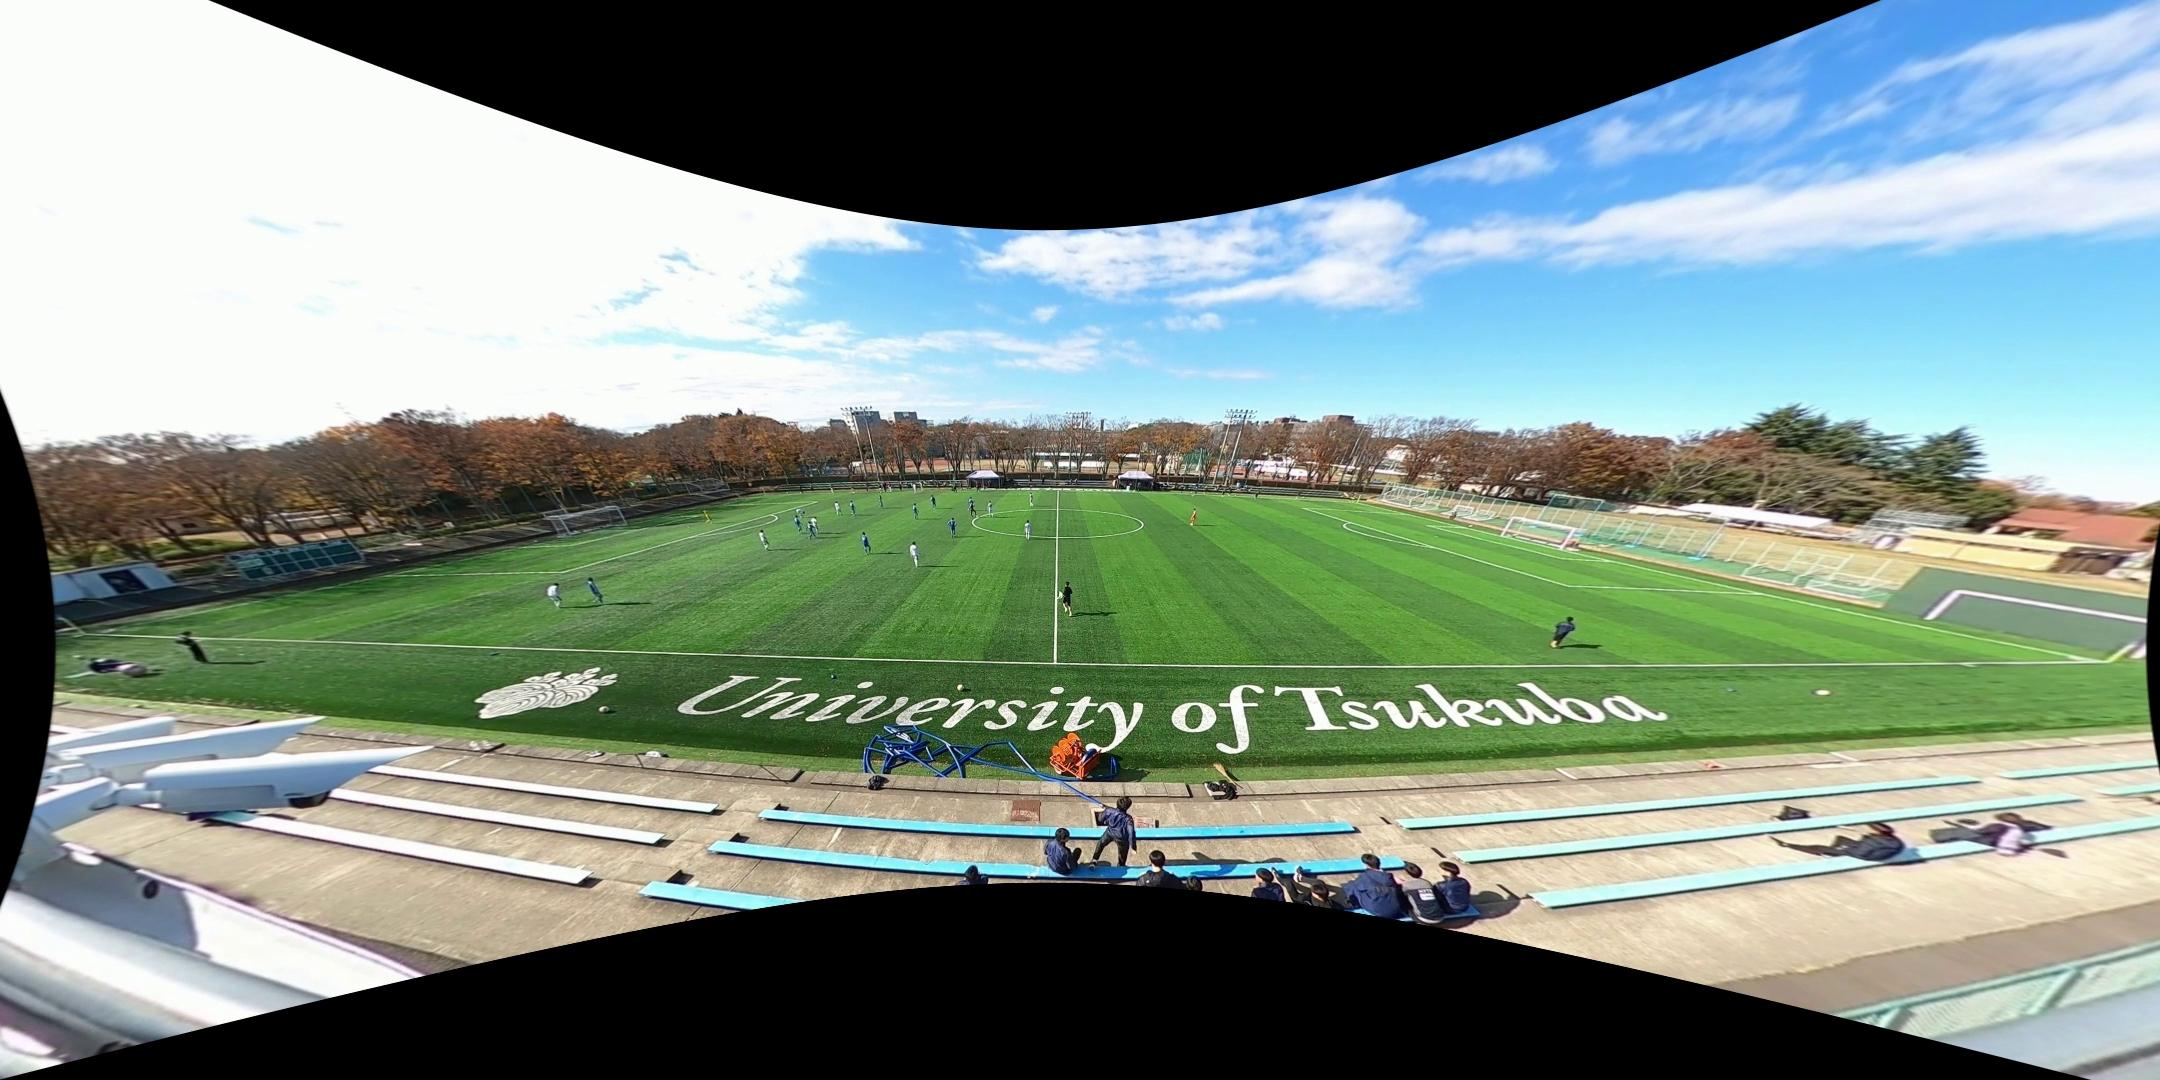person: (1550, 613, 1574, 654), (545, 582, 565, 611), (1058, 582, 1075, 615), (587, 576, 606, 605), (944, 517, 958, 539), (909, 541, 920, 568), (861, 530, 872, 556), (791, 513, 803, 535), (757, 530, 770, 550), (805, 521, 817, 541), (811, 516, 822, 536), (1024, 519, 1032, 541), (911, 502, 920, 520), (1188, 507, 1197, 525), (702, 510, 712, 525), (848, 499, 856, 517), (928, 495, 937, 511), (986, 501, 994, 519), (970, 501, 978, 518), (834, 501, 843, 516), (967, 495, 975, 511), (878, 495, 885, 510), (1027, 492, 1034, 507), (795, 509, 806, 518), (912, 483, 917, 494)
sports ball: (954, 678, 968, 694), (953, 682, 965, 693), (597, 705, 610, 714)
